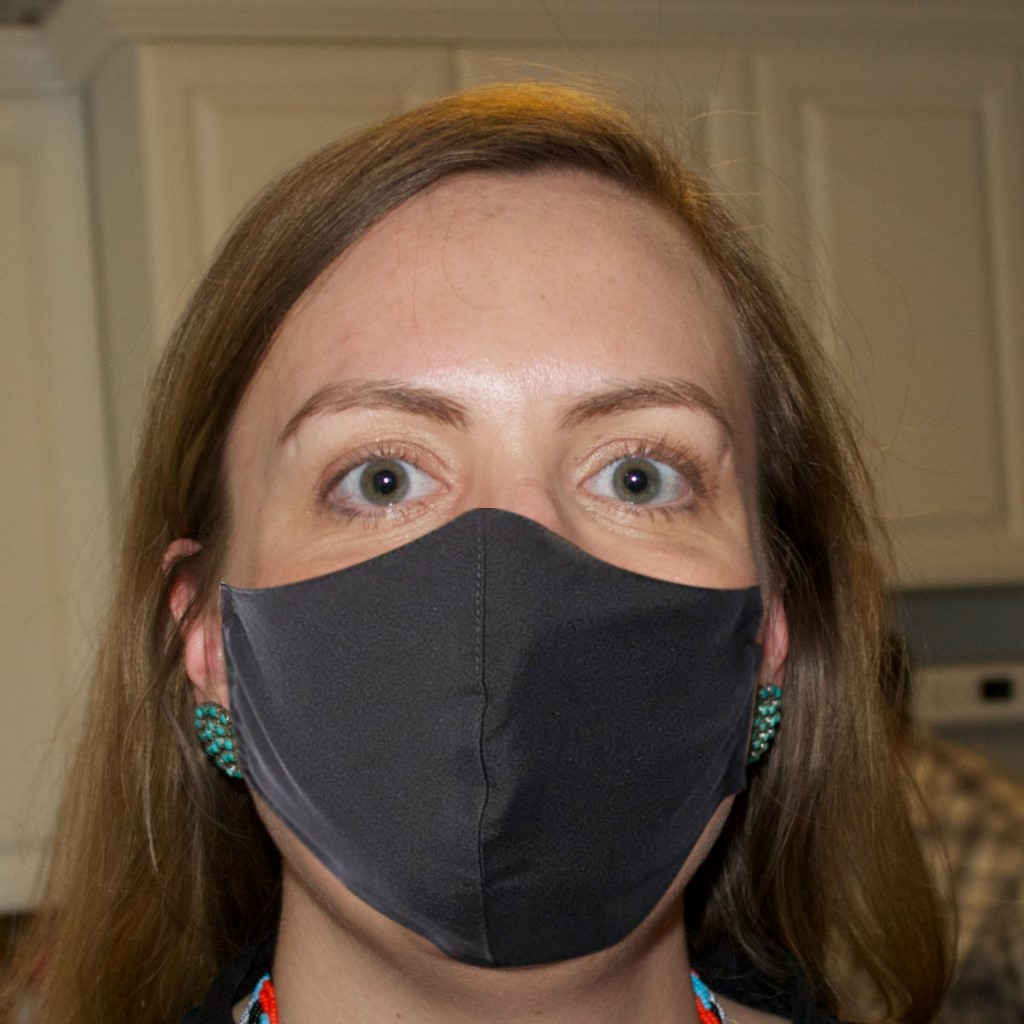con_mascara: (197, 193, 779, 975)
